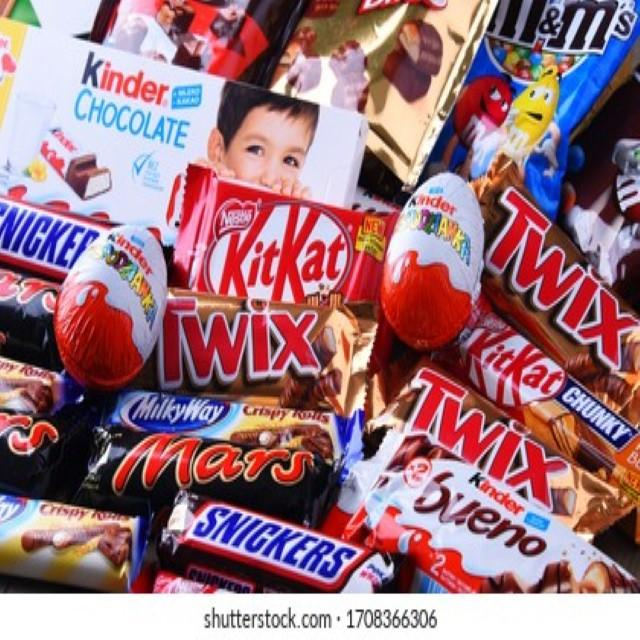mars_chocolate: (75, 427, 343, 508)
snickers_chocolate: (160, 500, 390, 613), (3, 192, 117, 282)
